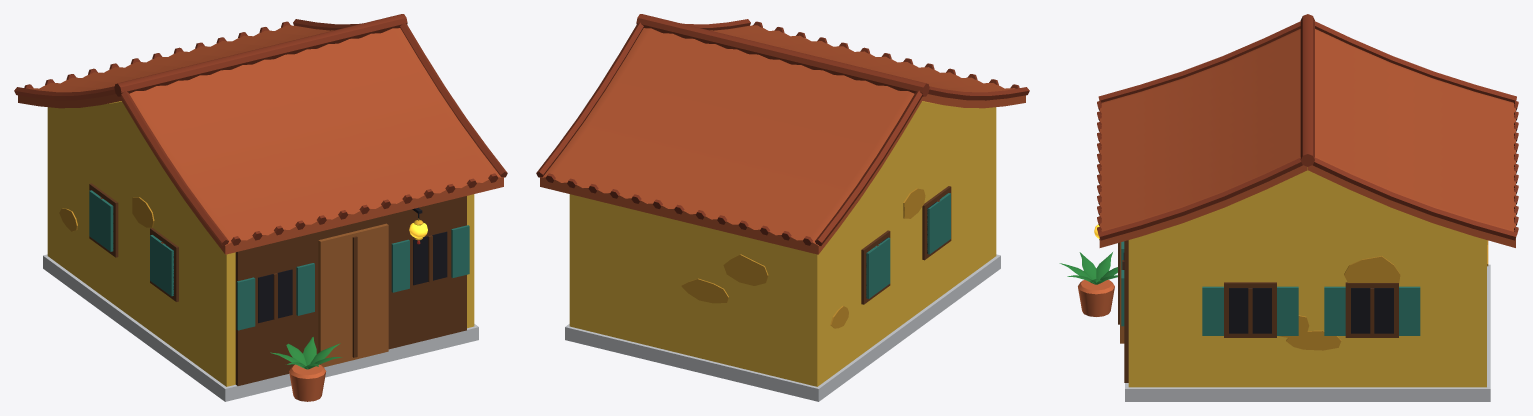
Rendered from hoian_house_small.glb.
3 views of the same model, side by side, from view 1: azimuth 30°, elevation 25°; view 2: azimuth 150°, elevation 25°; view 3: azimuth 270°, elevation 25° (orthographic).
Visible parts, largest first — view 1: hoian_house_small; view 2: hoian_house_small; view 3: hoian_house_small.
Boxes of the visible parts, x1,y1,x2,y2 form: hoian_house_small: (14, 14, 507, 401); hoian_house_small: (536, 14, 1029, 401); hoian_house_small: (1059, 14, 1518, 401).
Bounding box in the file's own units: 4.62 × 3.94 × 6.42.
